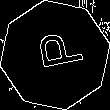P_W: (27, 32, 83, 78)
